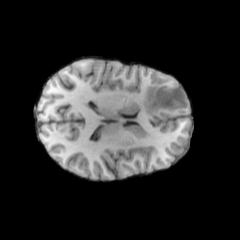glioma: (143, 84, 189, 116)
